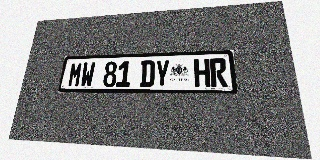1: (116, 61, 132, 87)
8: (102, 61, 118, 87)
D: (140, 60, 155, 87)
H: (194, 59, 211, 87)
M: (67, 62, 83, 87)
R: (210, 58, 228, 87)
W: (80, 62, 96, 87)
Y: (154, 60, 170, 87)
